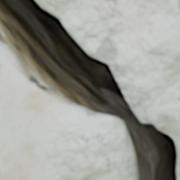broken_brick: (37, 0, 179, 168), (0, 48, 133, 179)
crack: (0, 0, 179, 179)
